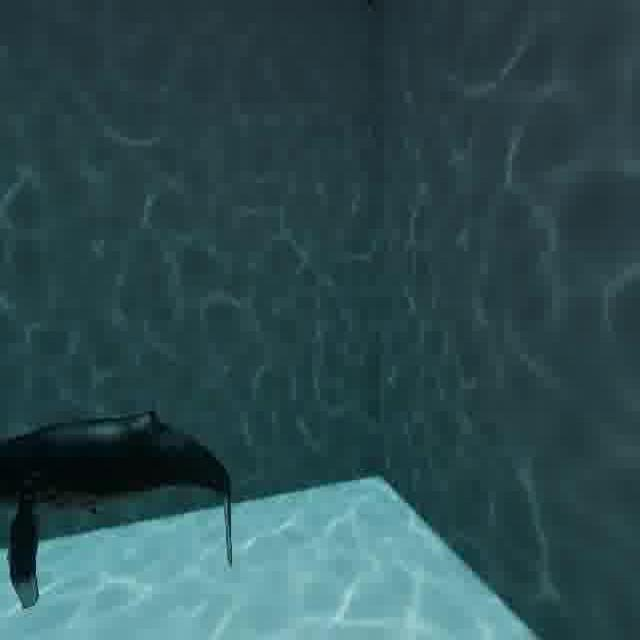Whale: (3, 390, 247, 626)
